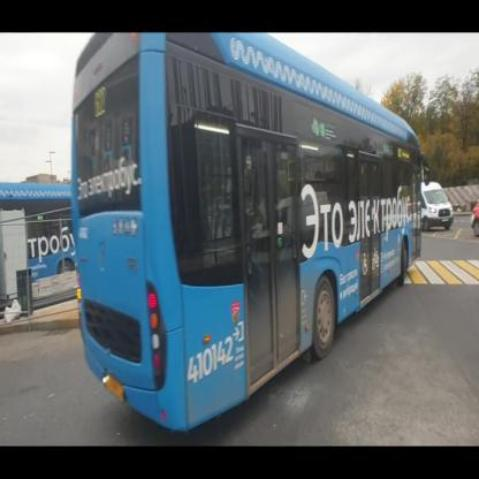bus: (71, 42, 427, 426)
